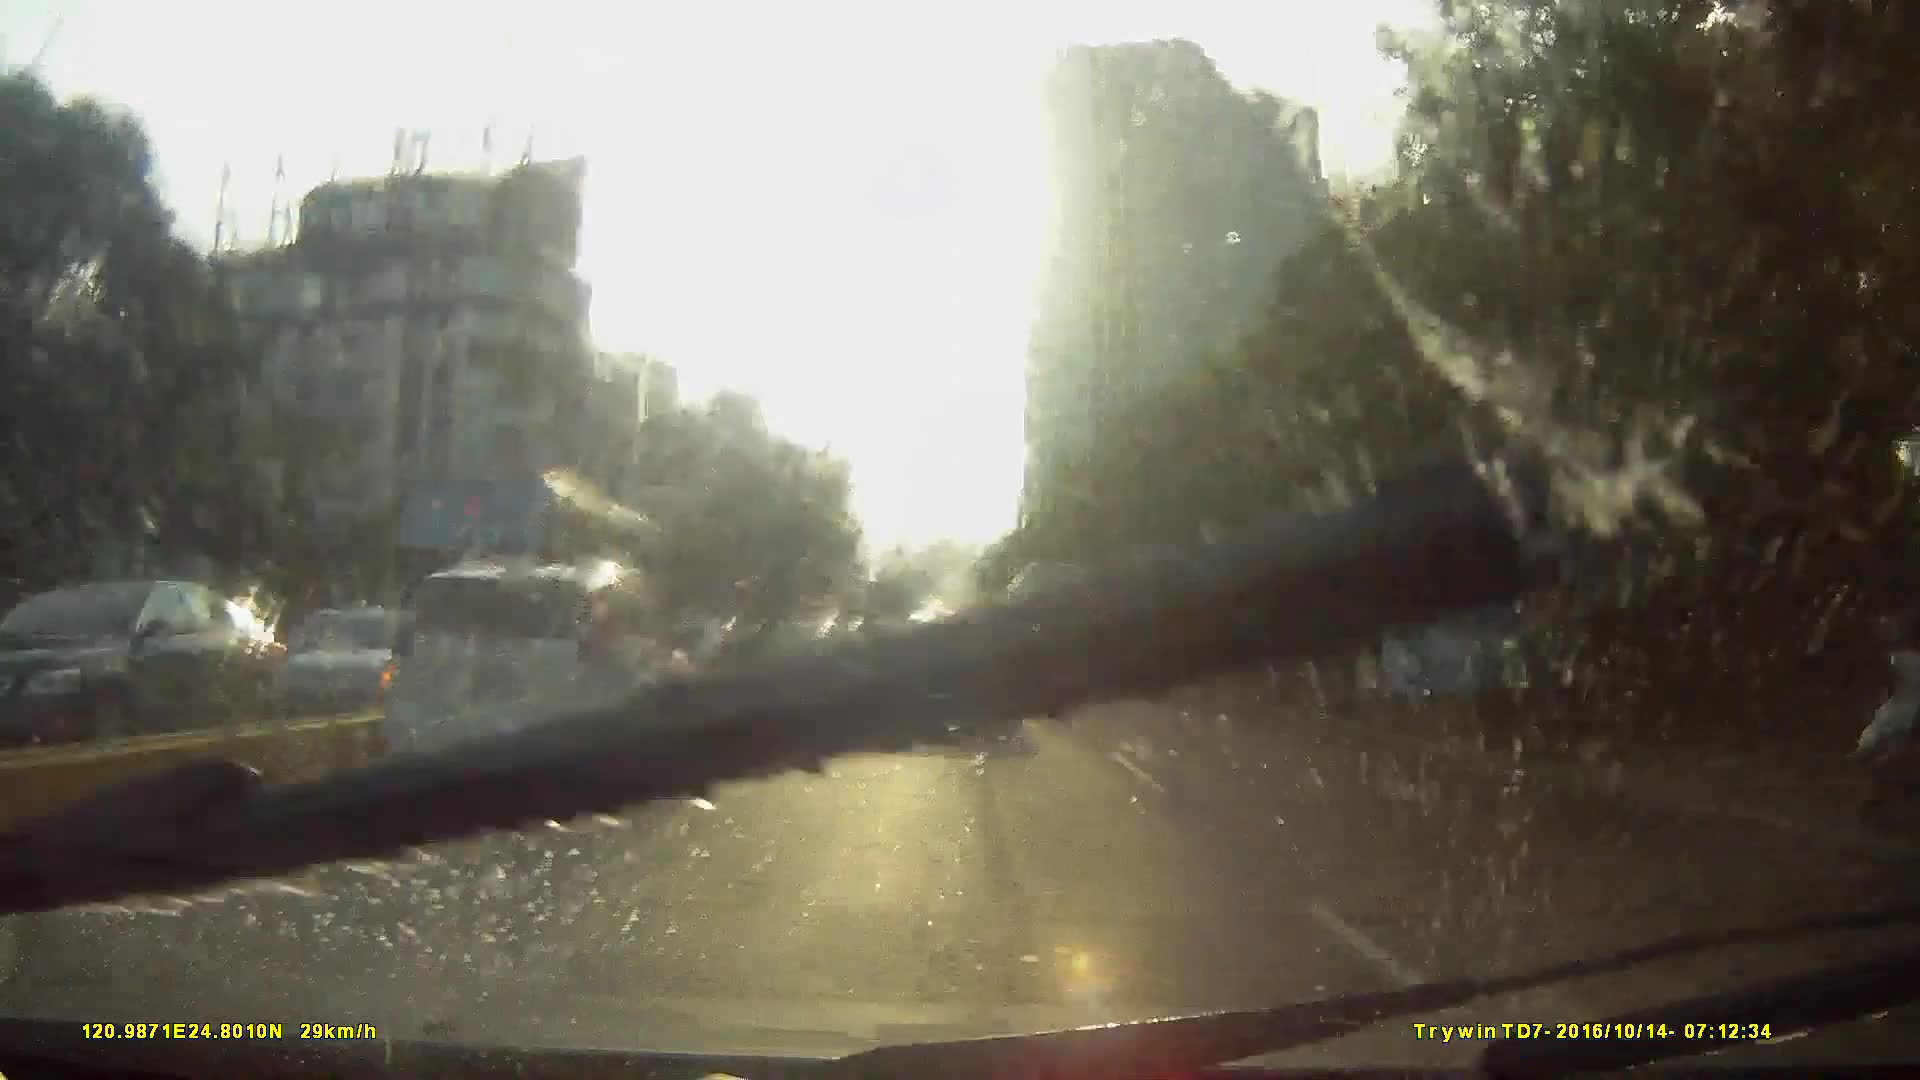vehicle: (251, 556, 684, 868), (339, 462, 694, 719), (394, 555, 703, 793), (882, 605, 1021, 752), (1001, 560, 1106, 687), (741, 618, 849, 704), (866, 638, 915, 687)
